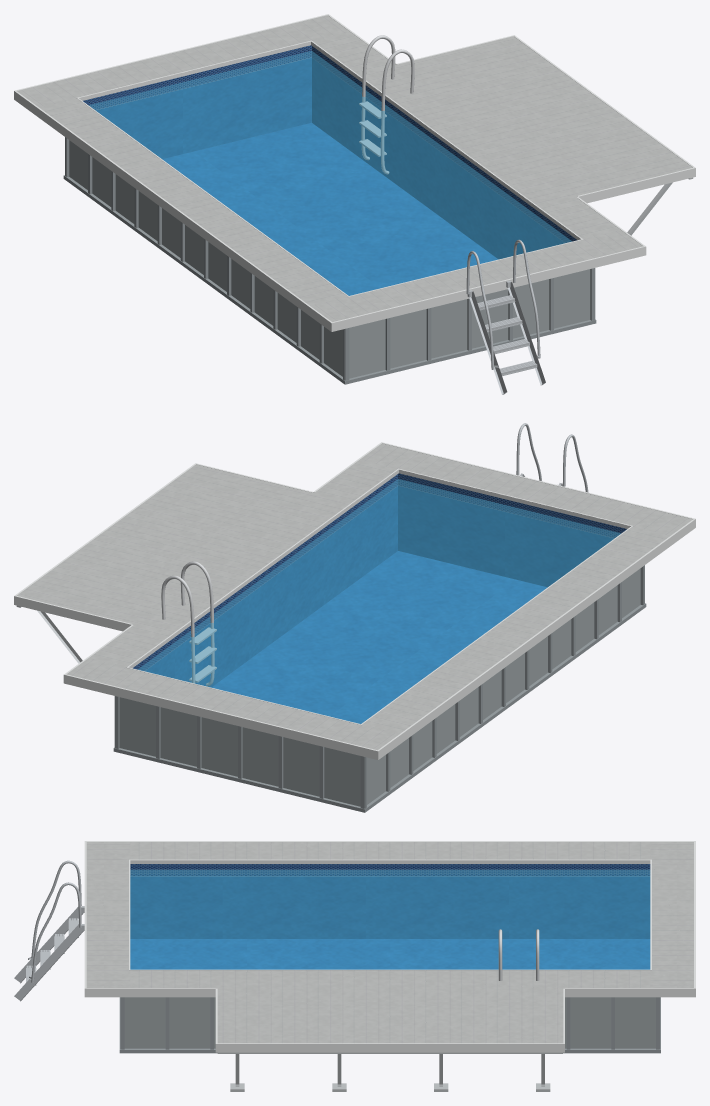
Rendered from kayak-pool-12x24-gray-t-ag-nofence.3e8c71a0c8.glb.
3 renders of one model, top to bottom at view 1: azimuth 30°, elevation 25°; view 2: azimuth 150°, elevation 25°; view 3: azimuth 270°, elevation 25°, orthographic. The views are drawn at different scales.
Parts seen in each view (by area): view 1: water, deck, liner_wall, liner_floor, wall, fascia, upright, ladder, steel; view 2: water, deck, liner_wall, liner_floor, wall, fascia, upright, steel, ladder; view 3: water, deck, liner_wall, liner_floor, fascia, wall, ladder, upright, stud, steel.
Part boxes in pixels (left/top/right/bottom): water: left=89, top=51, right=571, bottom=295; deck: left=17, top=15, right=692, bottom=321; liner_wall: left=83, top=45, right=576, bottom=259; liner_floor: left=162, top=123, right=498, bottom=295; wall: left=69, top=140, right=590, bottom=378; fascia: left=14, top=14, right=695, bottom=331; upright: left=63, top=137, right=596, bottom=384; ladder: left=466, top=239, right=545, bottom=394; steel: left=359, top=35, right=414, bottom=174; water: left=138, top=479, right=620, bottom=723; deck: left=17, top=443, right=692, bottom=750; liner_wall: left=133, top=473, right=626, bottom=687; liner_floor: left=212, top=551, right=547, bottom=723; wall: left=119, top=568, right=640, bottom=806; fascia: left=14, top=442, right=695, bottom=759; upright: left=113, top=565, right=646, bottom=812; steel: left=161, top=561, right=216, bottom=686; ladder: left=516, top=423, right=588, bottom=492; water: left=130, top=869, right=650, bottom=969; deck: left=86, top=842, right=693, bottom=1043; liner_wall: left=130, top=864, right=650, bottom=938; liner_floor: left=130, top=939, right=650, bottom=969; fascia: left=84, top=841, right=695, bottom=1052; wall: left=124, top=997, right=655, bottom=1048; ladder: left=14, top=860, right=84, bottom=1001; upright: left=119, top=997, right=660, bottom=1053; stud: left=217, top=1052, right=562, bottom=1091; steel: left=498, top=929, right=539, bottom=980.
Bounding box in the file's own units: 6.71 × 1.9 × 9.52.
Materials: 10 (3 with a texture image).
